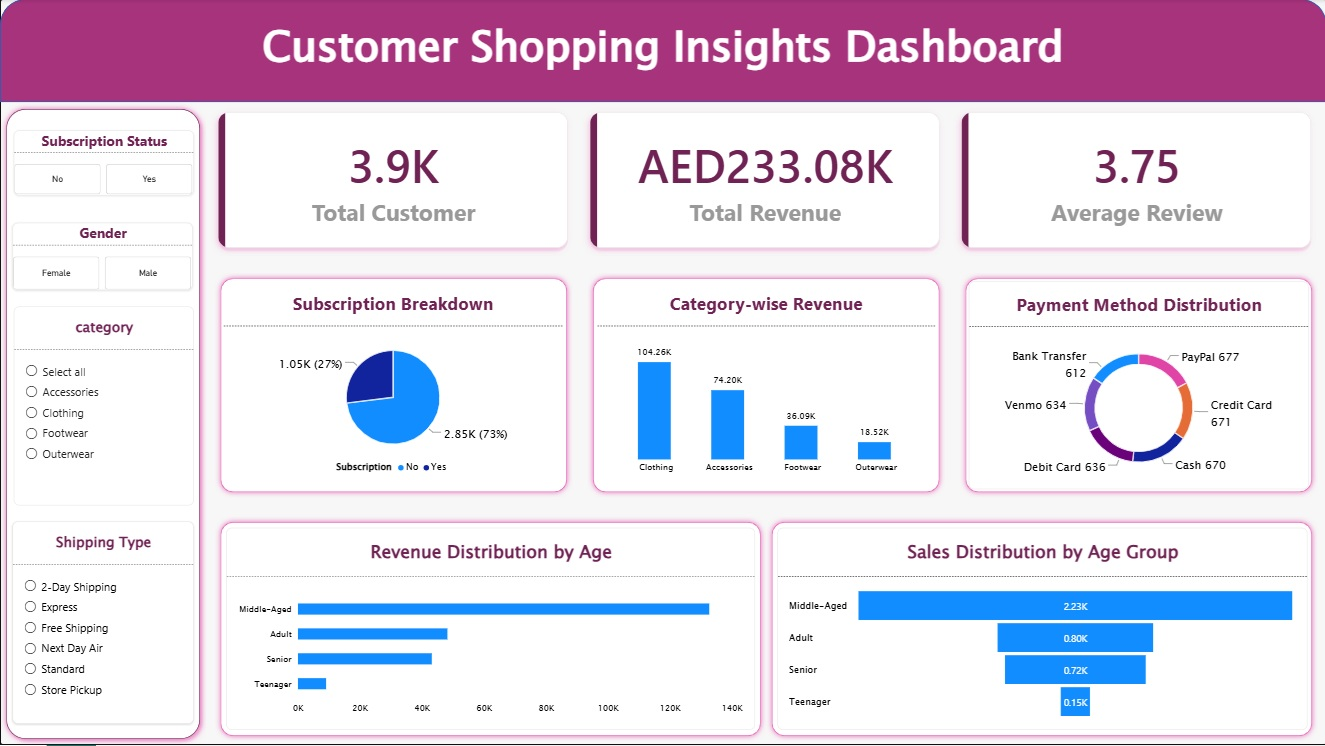

The page's visual inventory and layout, read from the dashboard file:
{"tool":"powerbi","page":{"name":"Page 1","canvas":[1920,1080],"ordinal":0},"visuals":[{"type":"cardVisual","title":"Customers","fields":{"Data":["customer_shopping_behavior.Total Customer","customer_shopping_behavior.Total Revenue","customer_shopping_behavior.Average Review"]},"box":[304,152,1608.8,220.8],"z":0},{"type":"shape","box":[0,0,1920.4,149.5],"z":1000},{"type":"textbox","title":"Customer Shopping Insights Dashboard","box":[0,23.5,1920,106.8],"z":2000},{"type":"shape","box":[311.3,396.3,517.6,325.7],"z":3000},{"type":"pieChart","title":"Subscription Breakdown","fields":{"Category":["customer_shopping_behavior.subscription_status"],"Y":["Count(customer_shopping_behavior.customer_id)"]},"box":[323.9,409,490.4,298.6],"z":4000},{"type":"shape","box":[850.5,396.3,517.6,325.7],"z":5000},{"type":"shape","box":[1389.8,396.3,517.6,325.7],"z":6000},{"type":"clusteredColumnChart","title":"Category-wise Revenue","fields":{"Category":["customer_shopping_behavior.category"],"Y":["customer_shopping_behavior.Total Revenue"]},"box":[865,409,488.6,300.4],"z":7000},{"type":"donutChart","title":"Payment Method Distribution","fields":{"Category":["customer_shopping_behavior.payment_method"],"Y":["CountNonNull(customer_shopping_behavior.customer_id)"]},"box":[1402.5,409,492.2,300.4],"z":8000},{"type":"shape","box":[0,150.2,298.6,930.2],"z":9000},{"type":"advancedSlicerVisual","title":"Subscription Status","fields":{"Values":["customer_shopping_behavior.subscription_status"]},"box":[19.9,190,260.6,94.1],"z":10000},{"type":"advancedSlicerVisual","title":"Gender","fields":{"Values":["customer_shopping_behavior.gender"]},"box":[18.1,323.9,260.6,97.7],"z":11000},{"type":"listSlicer","title":"Shipping Type","fields":{"Values":["customer_shopping_behavior.shipping_type"]},"box":[18.1,756.4,262.4,293.2],"z":13000},{"type":"listSlicer","fields":{"Values":["customer_shopping_behavior.category"]},"box":[19.9,445.2,260.6,287.7],"z":14000},{"type":"shape","box":[311.3,749.2,798.1,325.7],"z":14001},{"type":"shape","box":[1109.3,749.2,798.1,325.7],"z":14004},{"type":"clusteredBarChart","title":"Revenue Distribution by Age","fields":{"Category":["customer_shopping_behavior.age_group"],"Y":["customer_shopping_behavior.Total Revenue"]},"box":[327.5,765.5,765.5,293.2],"z":14005},{"type":"funnel","title":"Sales Distribution by Age Group","fields":{"Category":["customer_shopping_behavior.age_group"],"Y":["Count(customer_shopping_behavior.customer_id)"]},"box":[1125.6,765.5,767.3,293.2],"z":14010}]}

Visuals, with their boxes in screenshot pixels (x1, y1, x2, y2), scaled from the page's 1920x1080 canvas onto the 1325x746 screenshot:
"Customers" cardVisual: (x1=210, y1=105, x2=1320, y2=258)
shape: (x1=0, y1=0, x2=1324, y2=103)
"Customer Shopping Insights Dashboard" textbox: (x1=0, y1=16, x2=1324, y2=90)
shape: (x1=215, y1=274, x2=572, y2=499)
"Subscription Breakdown" pieChart: (x1=224, y1=283, x2=562, y2=489)
shape: (x1=587, y1=274, x2=944, y2=499)
shape: (x1=959, y1=274, x2=1316, y2=499)
"Category-wise Revenue" clusteredColumnChart: (x1=597, y1=283, x2=934, y2=490)
"Payment Method Distribution" donutChart: (x1=968, y1=283, x2=1308, y2=490)
shape: (x1=0, y1=104, x2=206, y2=745)
"Subscription Status" advancedSlicerVisual: (x1=14, y1=131, x2=194, y2=196)
"Gender" advancedSlicerVisual: (x1=12, y1=224, x2=192, y2=291)
"Shipping Type" listSlicer: (x1=12, y1=522, x2=194, y2=725)
listSlicer - customer_shopping_behavior.category: (x1=14, y1=308, x2=194, y2=506)
shape: (x1=215, y1=518, x2=766, y2=742)
shape: (x1=766, y1=518, x2=1316, y2=742)
"Revenue Distribution by Age" clusteredBarChart: (x1=226, y1=529, x2=754, y2=731)
"Sales Distribution by Age Group" funnel: (x1=777, y1=529, x2=1306, y2=731)
